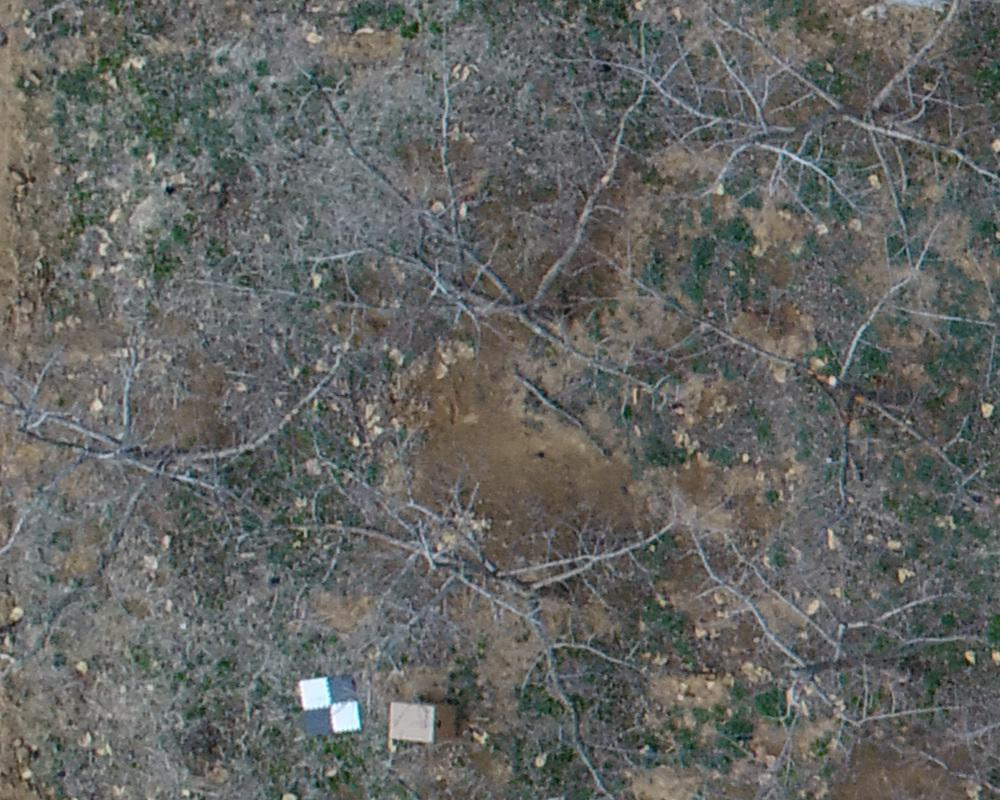apple: (323, 484, 682, 790), (334, 82, 663, 396), (21, 348, 333, 591), (679, 257, 983, 495), (646, 10, 990, 211), (691, 523, 950, 768)
